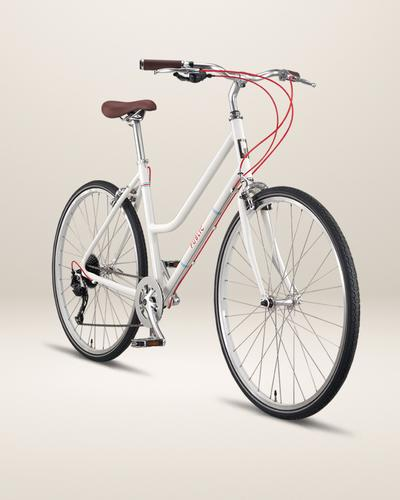bicycle: (48, 58, 364, 424)
